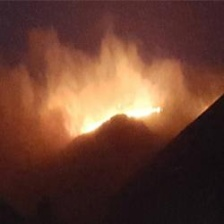fire: (74, 91, 163, 136)
